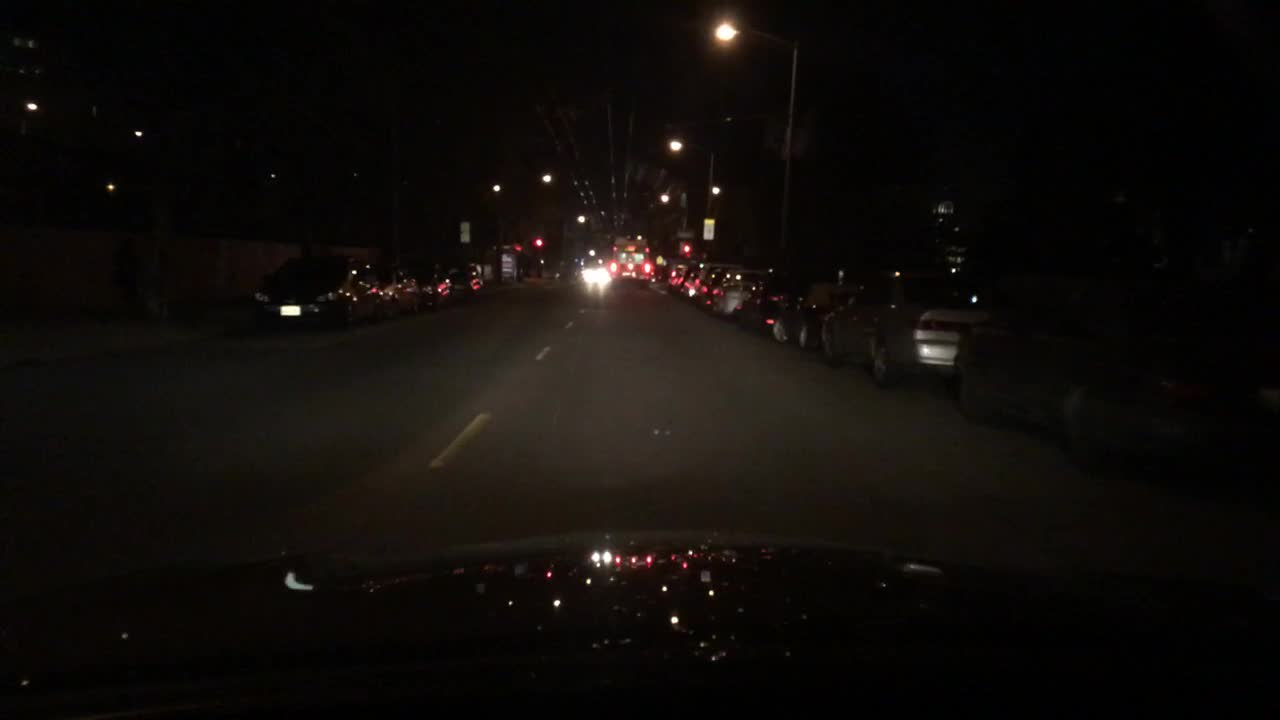car: (947, 271, 1233, 462), (818, 270, 988, 387), (251, 253, 381, 330), (771, 267, 857, 358), (739, 274, 809, 335), (360, 257, 422, 315), (709, 263, 752, 314), (416, 257, 450, 304), (687, 263, 718, 304), (448, 262, 484, 296), (580, 259, 611, 292), (666, 267, 688, 293)
traffic light: (679, 263, 698, 294), (680, 239, 691, 260), (532, 235, 541, 252)
traffic sign: (673, 232, 692, 239)
truck: (613, 235, 653, 288)
